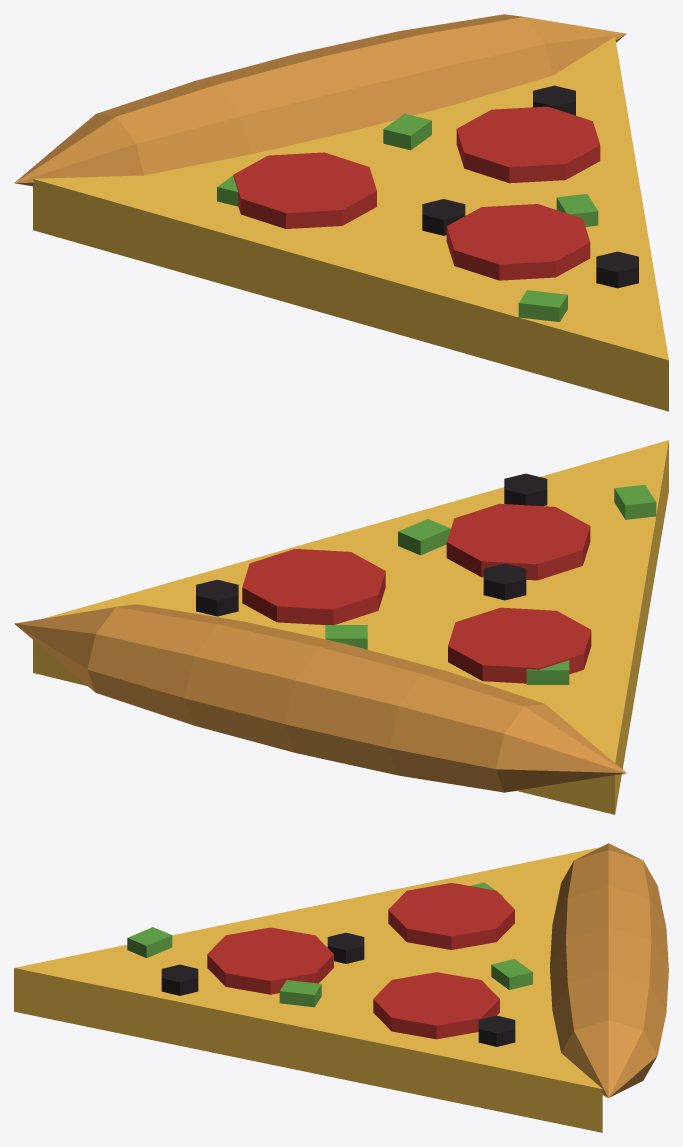
File: Food_Pizza.obj
The picture shows the model from 3 angles, top to bottom: view 1: azimuth 30°, elevation 25°; view 2: azimuth 150°, elevation 25°; view 3: azimuth 270°, elevation 25°; orthographic projection. The views are drawn at different scales.
Bounding box in the file's own units: 2 × 0.32 × 2.17.
